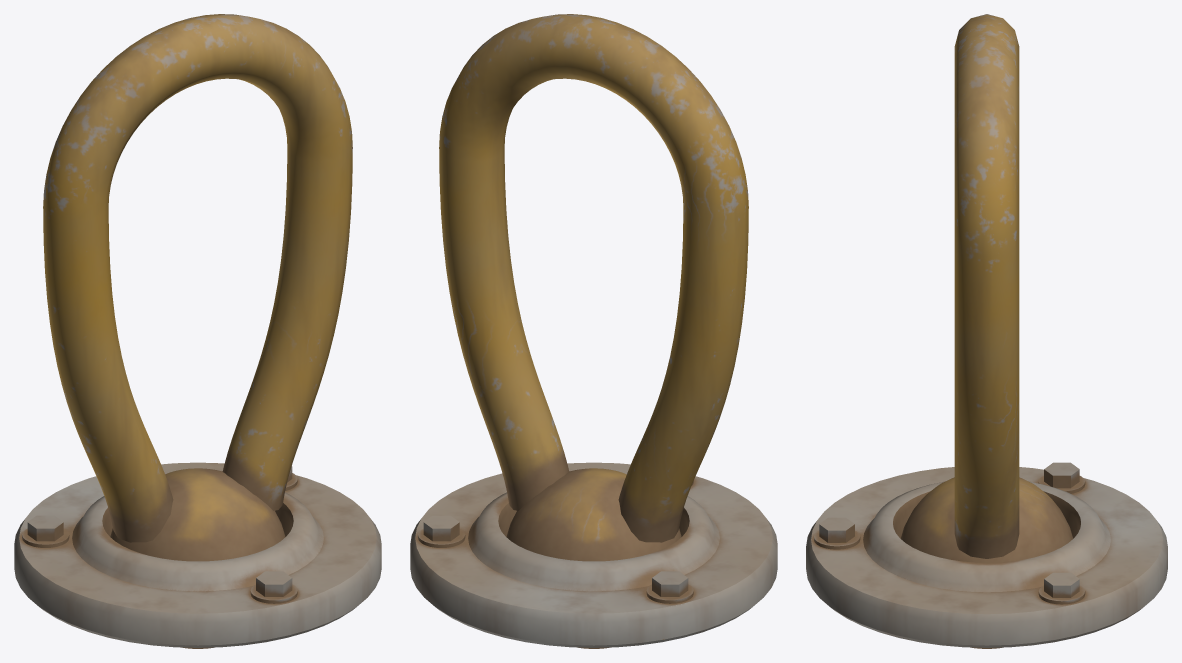
File: LiftingEye.fbx
3 views of the same model, side by side, from view 1: azimuth 30°, elevation 25°; view 2: azimuth 150°, elevation 25°; view 3: azimuth 270°, elevation 25° (orthographic).
Parts seen in each view (by area): view 1: Swivel, Base; view 2: Swivel, Base; view 3: Base, Swivel.
Part boxes in pixels (x1,y1,x2,y2): Swivel: (43, 14, 352, 648); Base: (14, 462, 381, 647); Swivel: (439, 14, 748, 648); Base: (410, 462, 777, 647); Base: (806, 462, 1167, 647); Swivel: (900, 14, 1073, 648).
Bounding box in the file's own units: 0.146 × 0.272 × 0.146.
